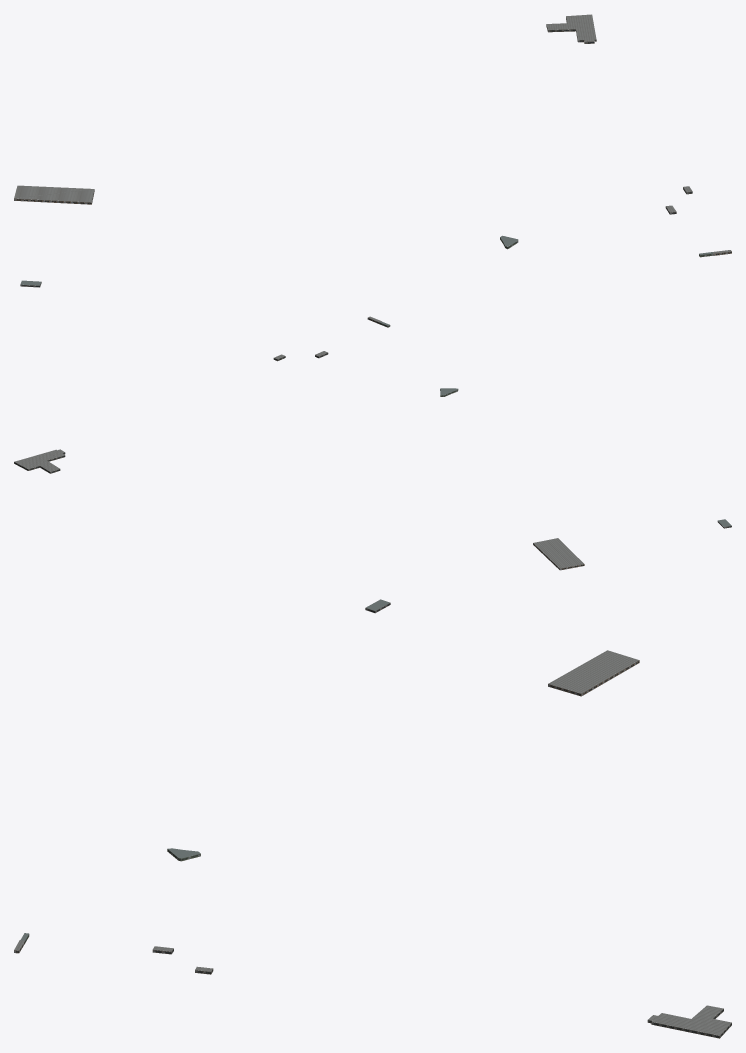
3 views of the same model, one above another, from view 1: azimuth 30°, elevation 25°; view 2: azimuth 150°, elevation 25°; view 3: azimuth 270°, elevation 25° (orthographic). The views are drawn at different scales.
Visible parts, largest first — view 1: SlateRoof; view 2: SlateRoof; view 3: SlateRoof.
Part boxes in pixels (bbox=[...]): SlateRoof: bbox=[14, 14, 731, 253]; SlateRoof: bbox=[14, 316, 583, 568]; SlateRoof: bbox=[14, 650, 731, 1035].
Bounding box in the file's own units: 1722 × 5.23 × 1195.
Materials: 6 (6 with a texture image).
